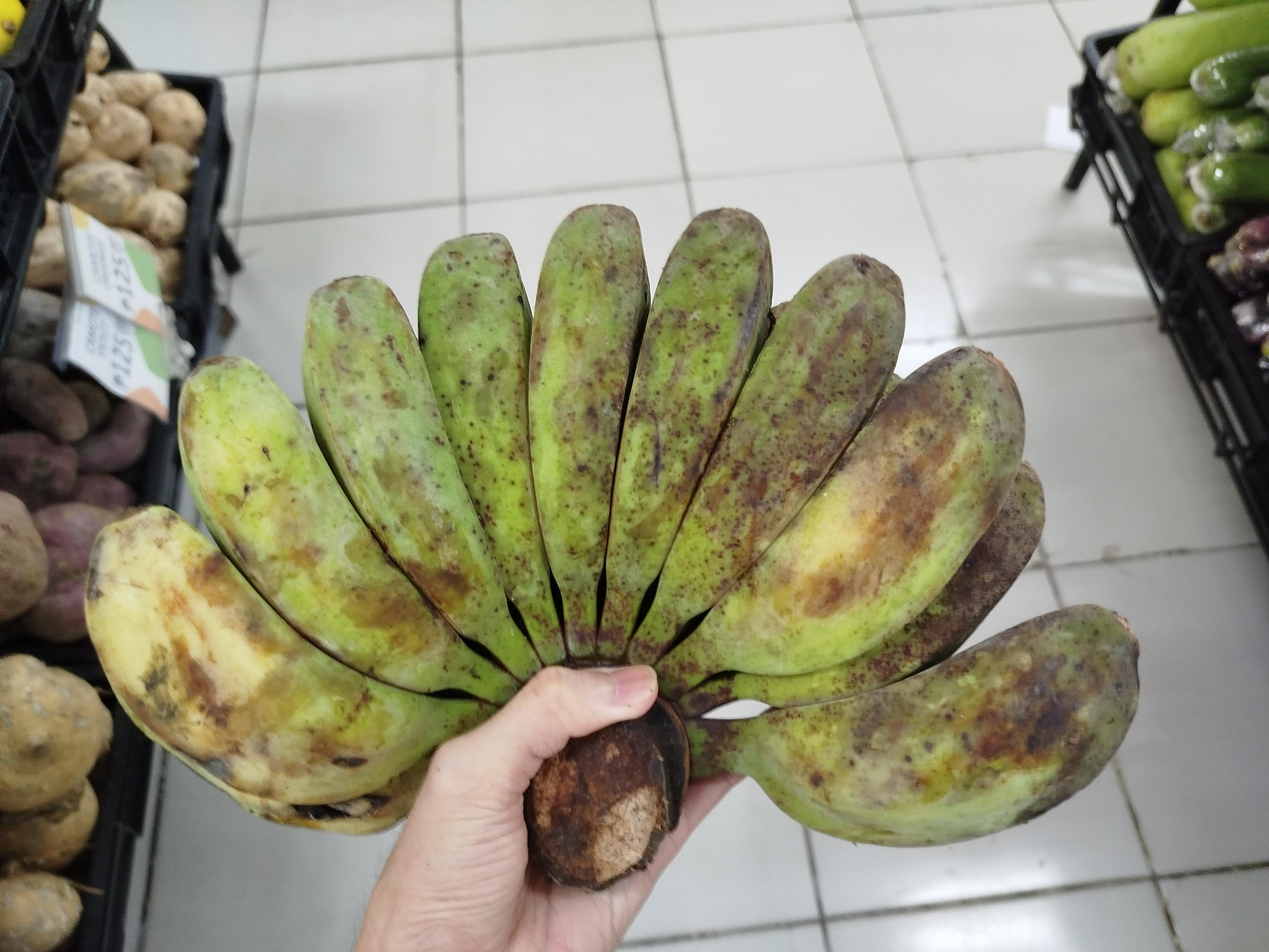underripe: (86, 204, 1138, 843)
